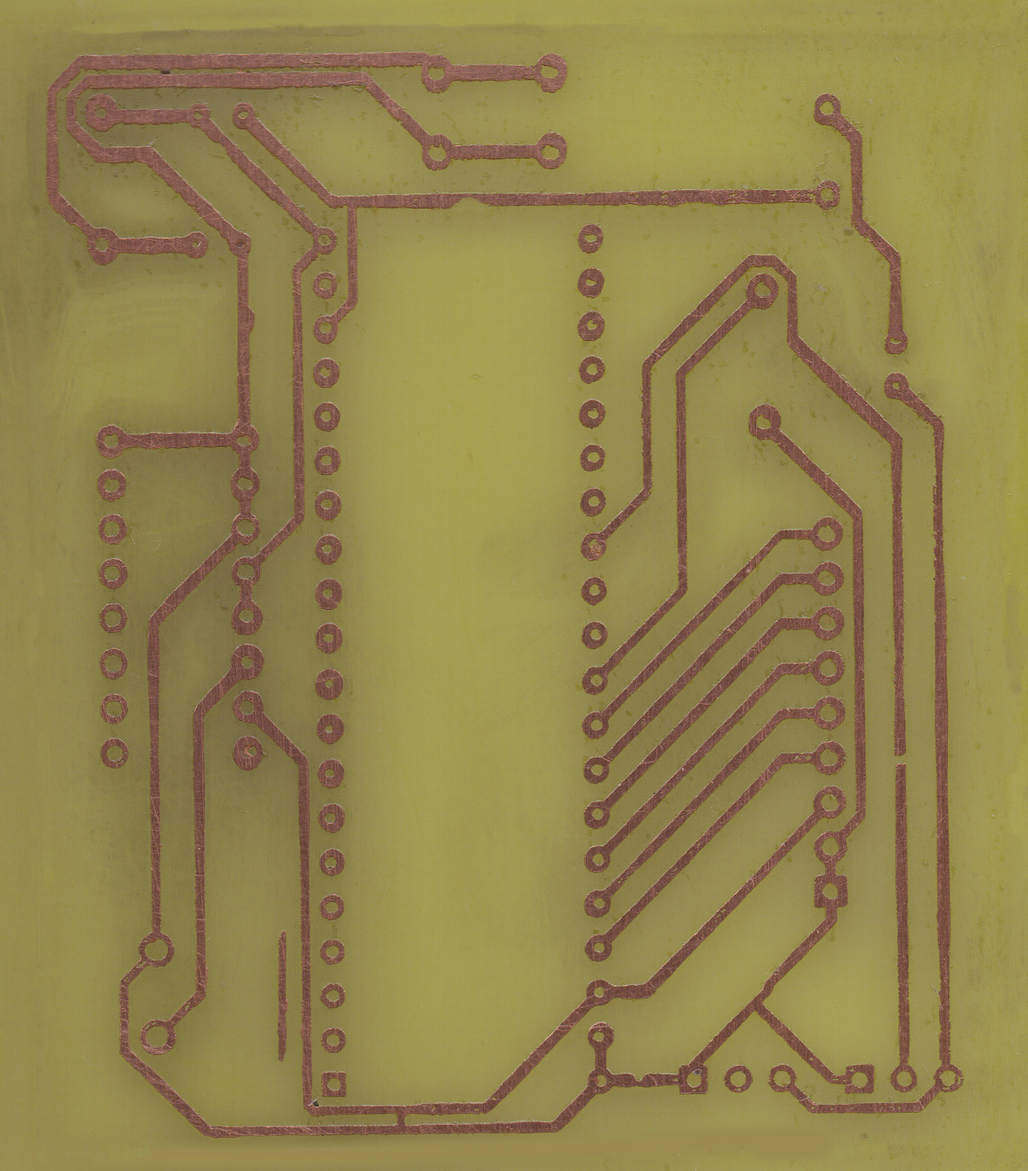missing_hole: (934, 1064, 965, 1092)
mouse_bite: (442, 191, 498, 210), (625, 1067, 653, 1096)
open_circuit: (895, 746, 907, 773)
short: (392, 1106, 412, 1134)
spur: (237, 300, 258, 340)
spurious_copper: (278, 931, 288, 1060)
